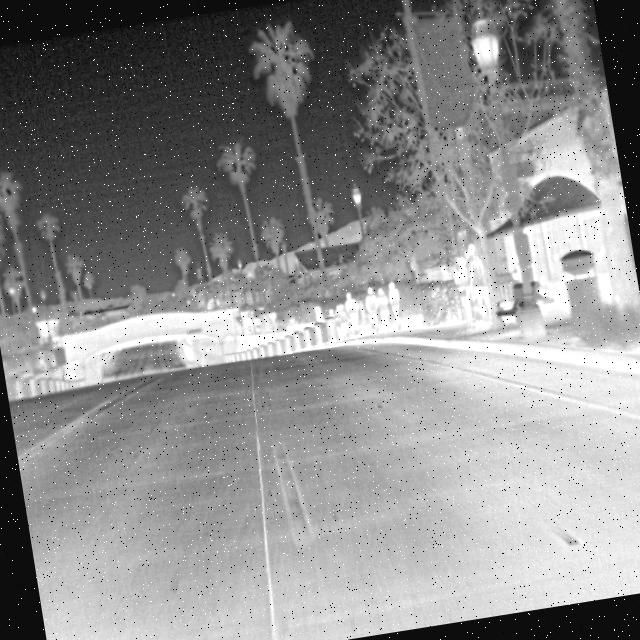Pedestrian: (462, 241, 496, 328), (386, 280, 406, 334), (342, 289, 363, 340), (363, 285, 383, 337), (374, 286, 394, 336)
